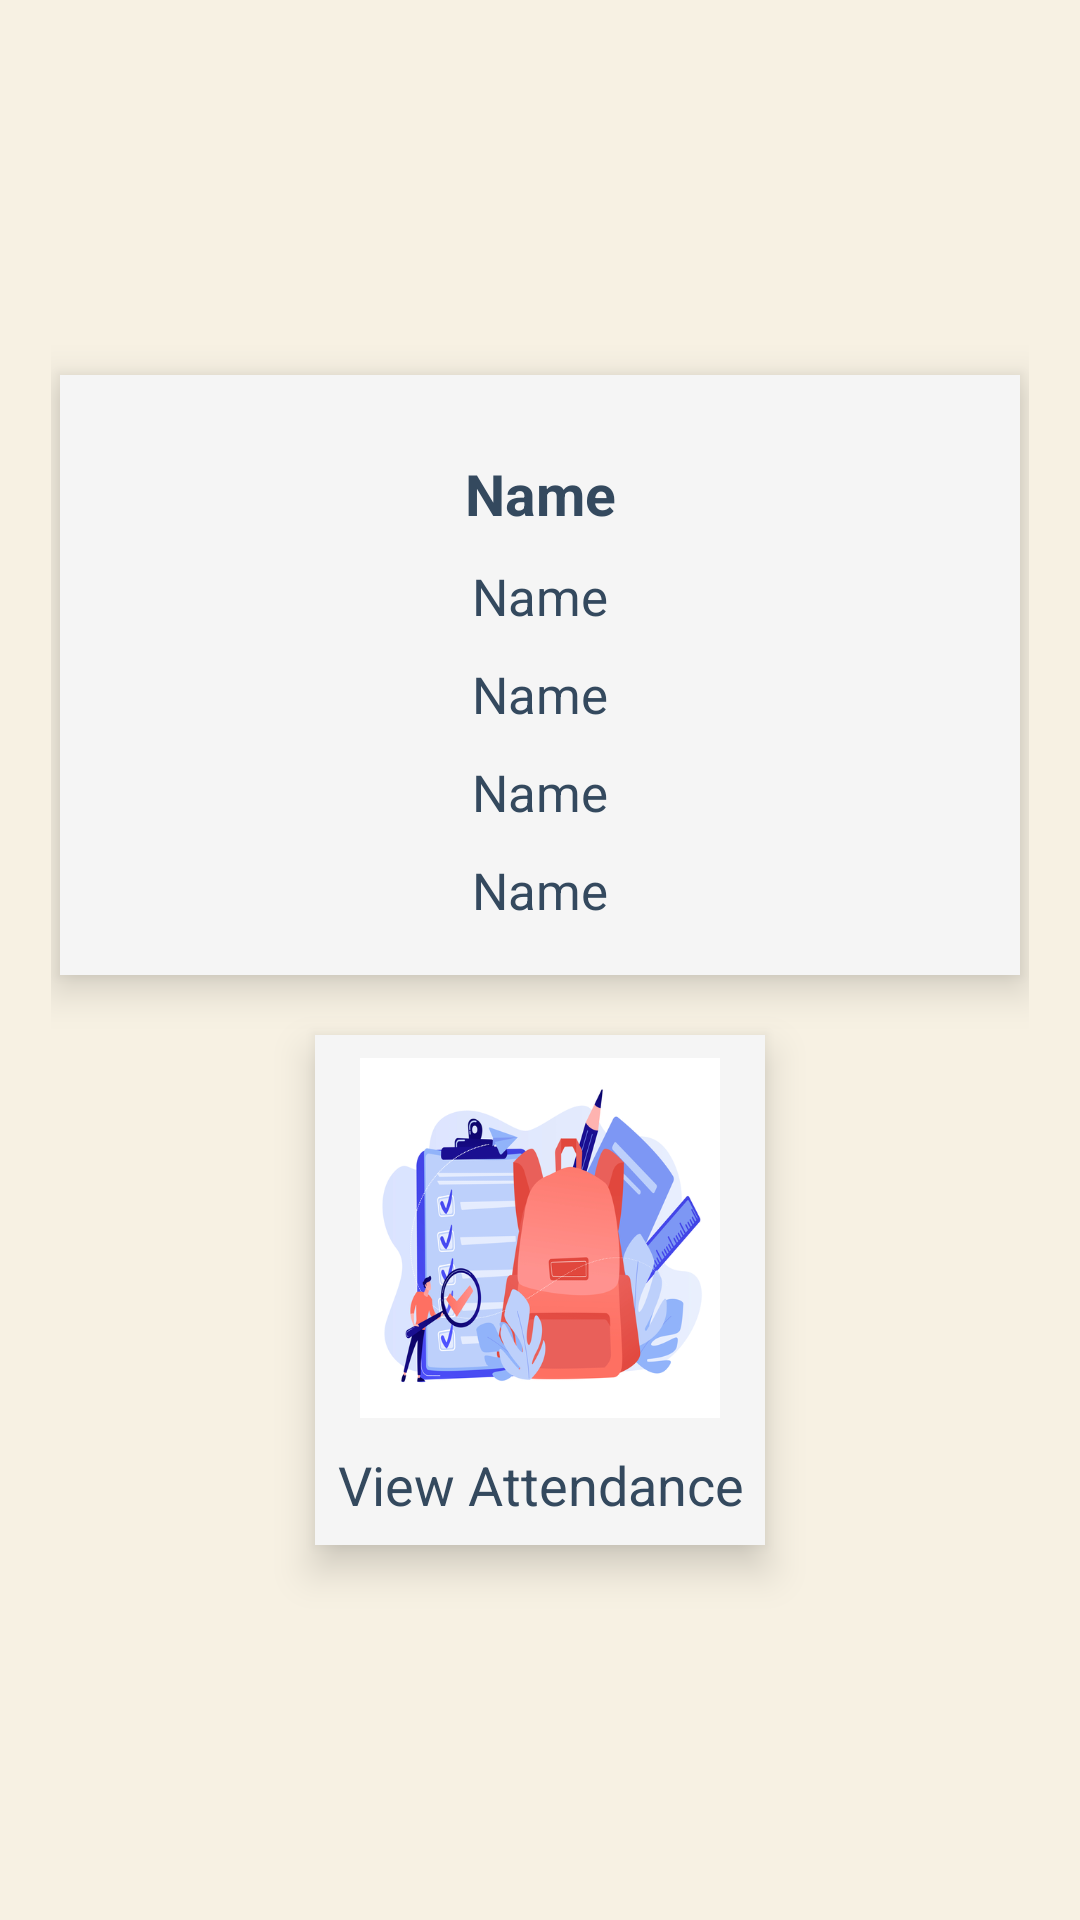

Point at icon controls on the screen. Image size 1080 × 1920, points as (x,y).
stdlist: (542,1235)
